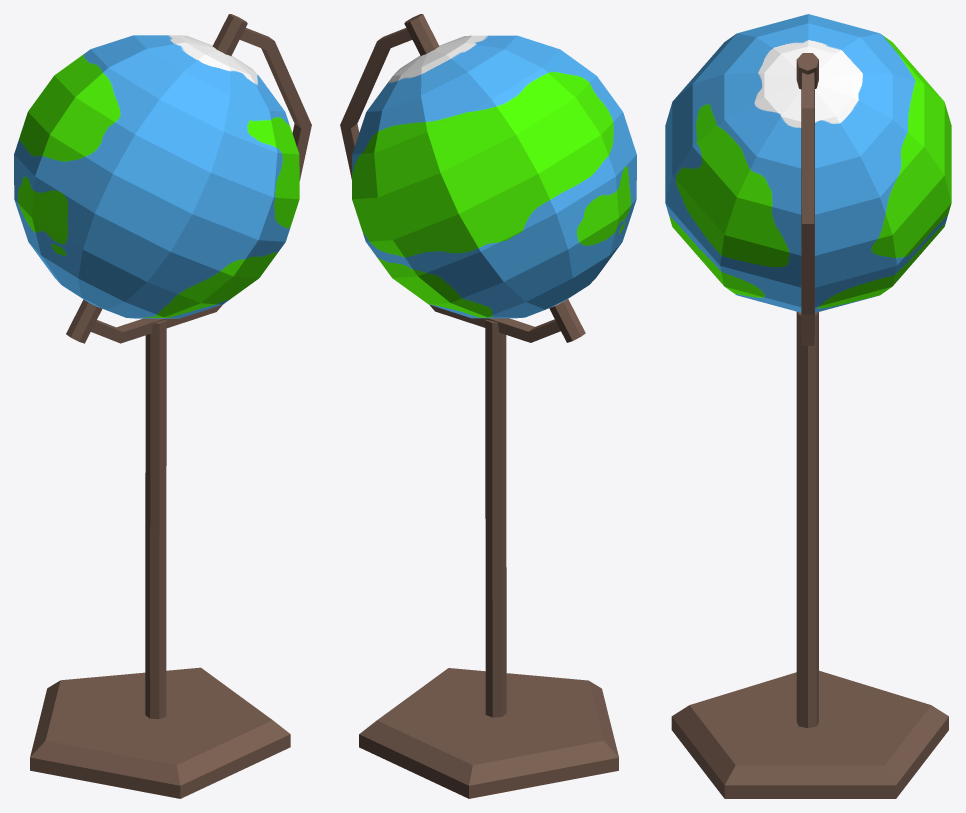
The model's file is geo_Globe_01.fbx.
The picture shows the model from 3 angles, left to right: view 1: azimuth 30°, elevation 25°; view 2: azimuth 150°, elevation 25°; view 3: azimuth 270°, elevation 25°; orthographic projection. The views are drawn at different scales.
Visible parts, largest first — view 1: pSphere1, geo_ComputerStand_01, pCylinder4, pPipe1, pCylinder3; view 2: pSphere1, geo_ComputerStand_01, pCylinder4, pPipe1, pCylinder3; view 3: pSphere1, geo_ComputerStand_01, pCylinder4, pPipe1, pCylinder3.
Boxes of the visible parts, x1=… form: pSphere1: x1=14, y1=35, x2=299, y2=318; geo_ComputerStand_01: x1=30, y1=667, x2=290, y2=798; pCylinder4: x1=145, y1=320, x2=166, y2=718; pPipe1: x1=91, y1=28, x2=311, y2=343; pCylinder3: x1=66, y1=14, x2=247, y2=343; pSphere1: x1=352, y1=35, x2=636, y2=318; geo_ComputerStand_01: x1=359, y1=668, x2=618, y2=798; pCylinder4: x1=485, y1=319, x2=506, y2=717; pPipe1: x1=340, y1=28, x2=560, y2=342; pCylinder3: x1=404, y1=14, x2=585, y2=342; pSphere1: x1=665, y1=14, x2=951, y2=312; geo_ComputerStand_01: x1=671, y1=670, x2=948, y2=798; pCylinder4: x1=796, y1=311, x2=818, y2=728; pPipe1: x1=801, y1=72, x2=814, y2=345; pCylinder3: x1=796, y1=53, x2=818, y2=89.
Bounding box in the file's own units: 42.33 × 103 × 36.28.
2 materials, 1 textured.
